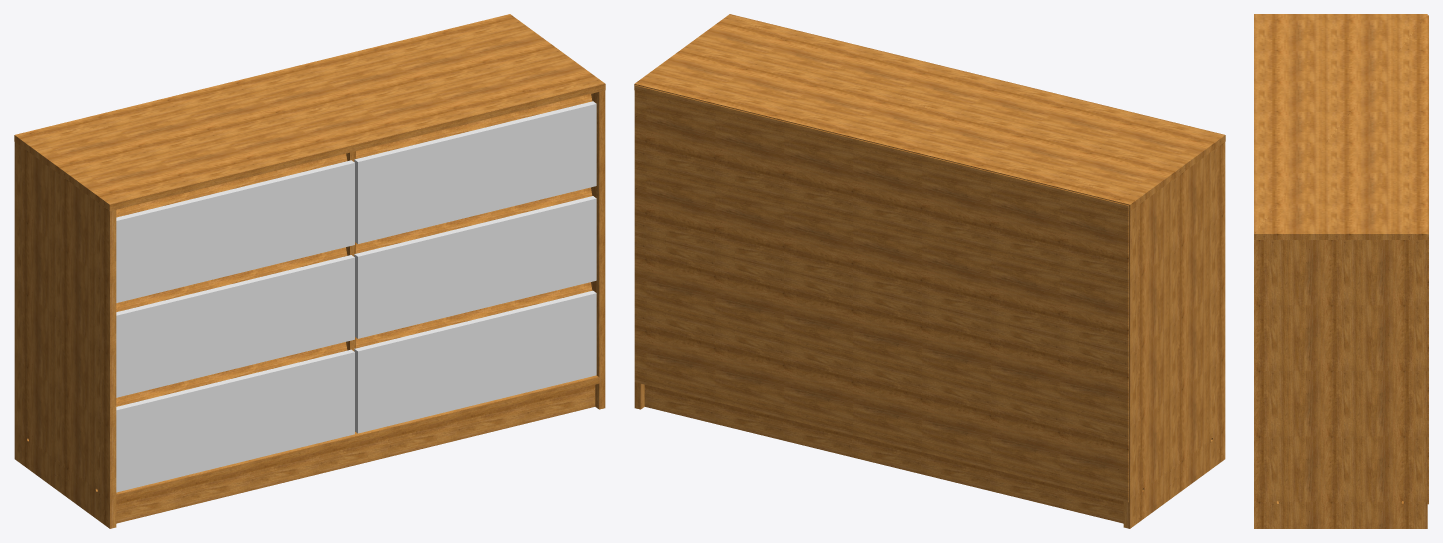
3 renders of one model, left to right at view 1: azimuth 30°, elevation 25°; view 2: azimuth 150°, elevation 25°; view 3: azimuth 270°, elevation 25°, orthographic. The views are drawn at different scales.
Visible parts, largest first — view 1: A008395-TAPASXXXTAPA, Simetr적008395-COSTADOSCOST, A008395-FRENTESXCADE002, A008395-FRENTESXCADE001, A008395-FRENTESXCADE, A008395-FRENTESXCAIZ001, A008395-FRENTESXCAIZ, A008395-FRENTESXCAIZ002, A008395-ZOCALOSXZOCA, A008395-PISOSXXXFREN, A008395-COSTADOSCOST, A008395-FAJASXXXFREN001 (+5 smaller); view 2: A008395-FONDOSXXMUEB, A008395-FONDOSXXMUEB001, A008395-TAPASXXXTAPA, Simetr적008395-COSTADOSCOST, A008395-ZOCALOSXZOCA001; view 3: A008395-COSTADOSCOST, A008395-TAPASXXXTAPA, A008395-FONDOSXXMUEB, A008395-FONDOSXXMUEB001.
Boxes of the visible parts, box(x1,y1,x2,y2) form: A008395-TAPASXXXTAPA: box(14, 14, 605, 210); Simetr적008395-COSTADOSCOST: box(14, 142, 116, 528); A008395-FRENTESXCADE002: box(354, 101, 596, 243); A008395-FRENTESXCADE001: box(354, 196, 596, 338); A008395-FRENTESXCADE: box(354, 290, 596, 433); A008395-FRENTESXCAIZ001: box(116, 255, 354, 397); A008395-FRENTESXCAIZ: box(116, 349, 354, 492); A008395-FRENTESXCAIZ002: box(116, 160, 354, 302); A008395-ZOCALOSXZOCA: box(116, 385, 595, 523); A008395-PISOSXXXFREN: box(116, 375, 599, 501); A008395-COSTADOSCOST: box(591, 90, 605, 409); A008395-FAJASXXXFREN001: box(356, 187, 592, 253); A008395-FONDOSXXMUEB: box(634, 85, 1128, 353); A008395-FONDOSXXMUEB001: box(634, 234, 1128, 502); A008395-TAPASXXXTAPA: box(634, 14, 1225, 210); Simetr적008395-COSTADOSCOST: box(1123, 142, 1225, 528); A008395-ZOCALOSXZOCA001: box(644, 385, 1123, 523); A008395-COSTADOSCOST: box(1254, 240, 1427, 528); A008395-TAPASXXXTAPA: box(1254, 14, 1427, 239); A008395-FONDOSXXMUEB: box(1427, 15, 1428, 369); A008395-FONDOSXXMUEB001: box(1427, 369, 1428, 504).
Bounding box in the file's own units: 1.2 × 0.75 × 0.403.
2 materials, 1 textured.
